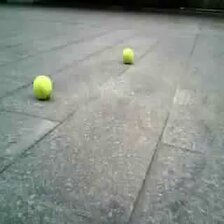tennis: (33, 74, 50, 96), (122, 48, 134, 61)
